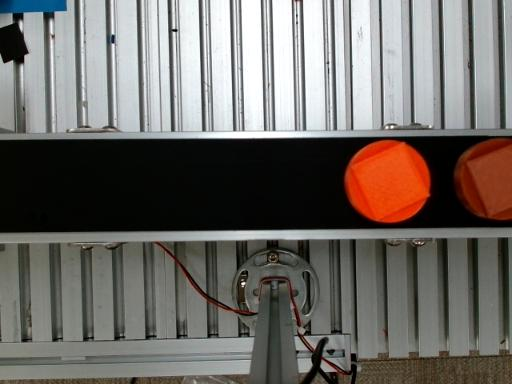Square: (351, 141, 430, 221)
